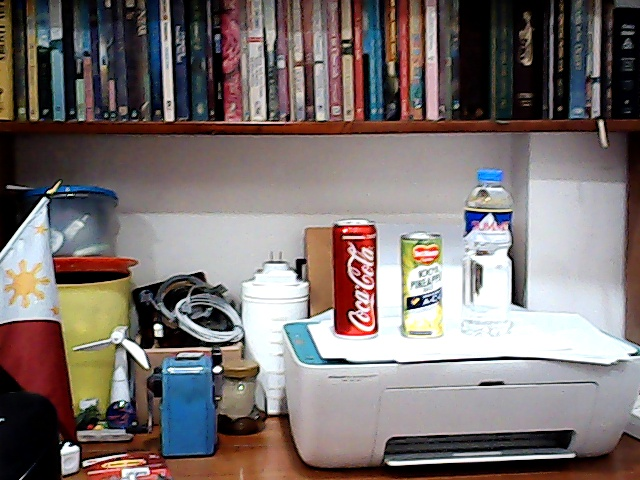Cola: (329, 216, 382, 337)
Pine Juice: (396, 226, 451, 341)
Summit Water: (456, 169, 515, 348)
